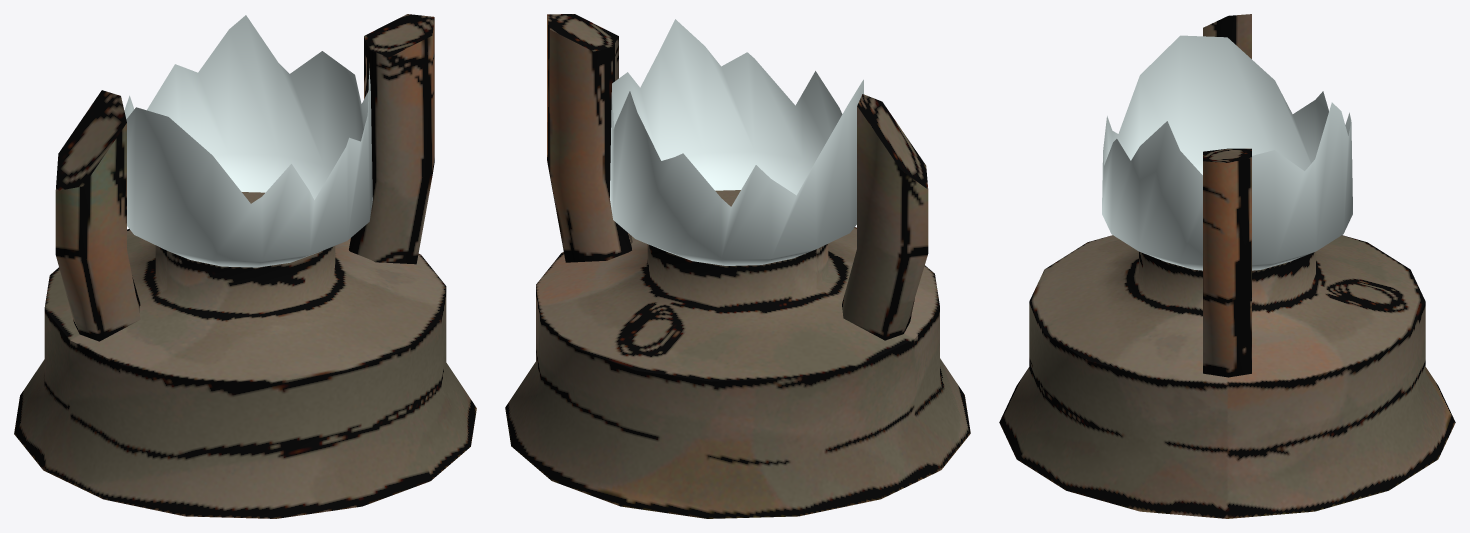
File: lanterngib1.fbx
3 views of the same model, side by side, from view 1: azimuth 30°, elevation 25°; view 2: azimuth 150°, elevation 25°; view 3: azimuth 270°, elevation 25° (orthographic). The views are drawn at different scales.
Visible parts, largest first — view 1: lanterngib1; view 2: lanterngib1; view 3: lanterngib1.
Part boxes in pixels (left/top/right/bottom): lanterngib1: left=14, top=14, right=476, bottom=518; lanterngib1: left=505, top=14, right=970, bottom=518; lanterngib1: left=999, top=14, right=1455, bottom=518.
Bounding box in the file's own units: 200 × 169 × 200.
